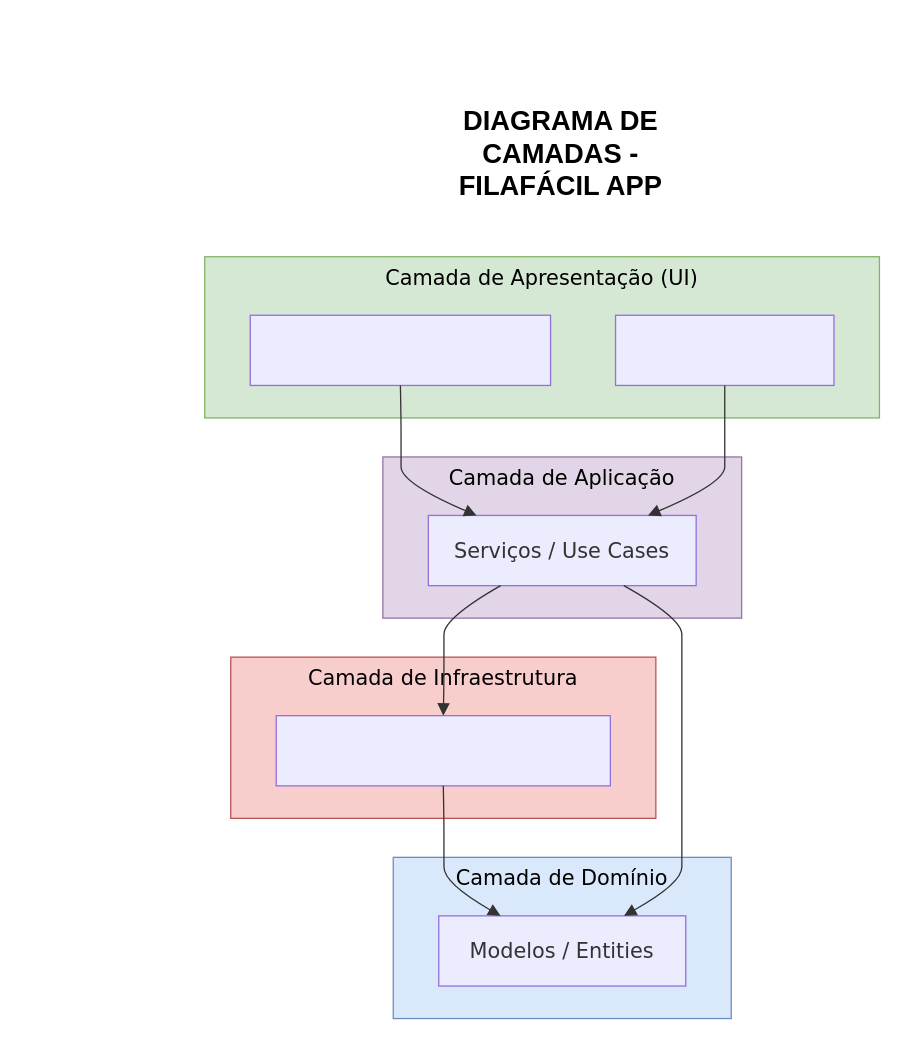
Some shapes in this 902 by 1041 pixel diagram are drawn without their labels. Here are the shapes that lost their labels. From the top down, the centre of each, then its label:
At point (400, 349): "Componentes / Widgets".
At point (724, 349): "Telas / Screens".
At point (442, 750): "Repositórios / Data Sources".
